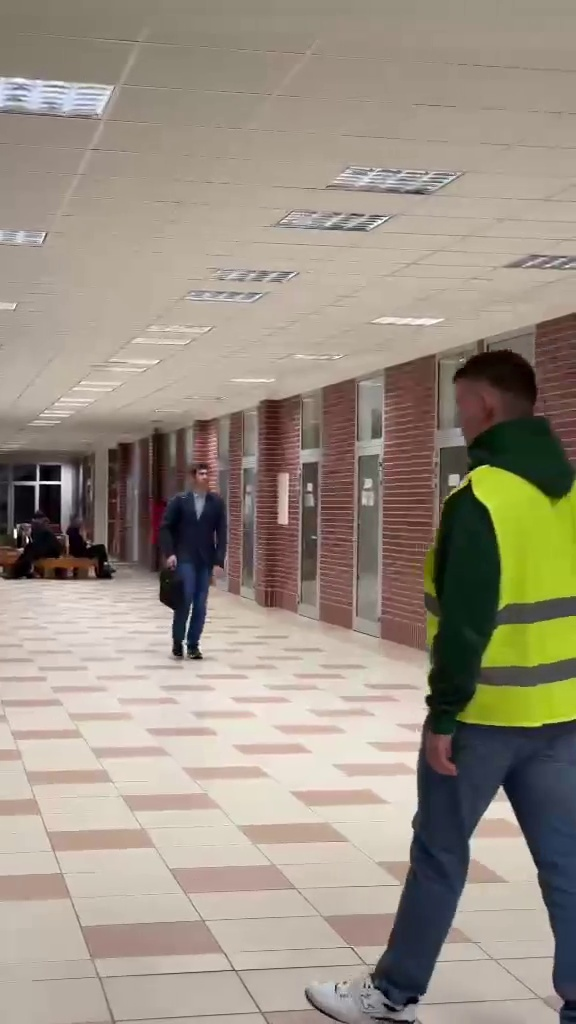no vest: (153, 459, 232, 664)
vest: (347, 346, 576, 1024)
